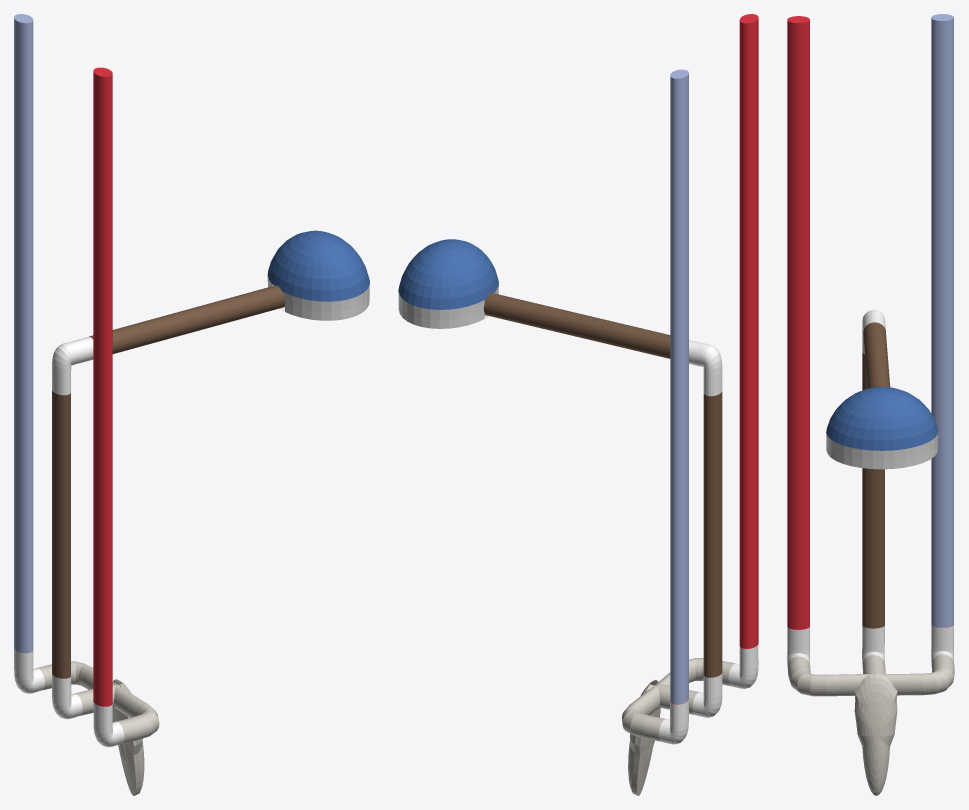
The model's file is ducha.glb.
3 views of the same model, side by side, from view 1: azimuth 30°, elevation 25°; view 2: azimuth 150°, elevation 25°; view 3: azimuth 270°, elevation 25° (orthographic). The views are drawn at different scales.
Parts seen in each view (by area): view 1: Cylinder.002; view 2: Cylinder.002; view 3: Cylinder.002.
Boxes of the visible parts, left/top/right/bottom form: Cylinder.002: left=14, top=14, right=369, bottom=795; Cylinder.002: left=398, top=14, right=758, bottom=795; Cylinder.002: left=787, top=14, right=954, bottom=795.
Size of the model in its own units: 0.5941 by 1.4 by 0.286.
